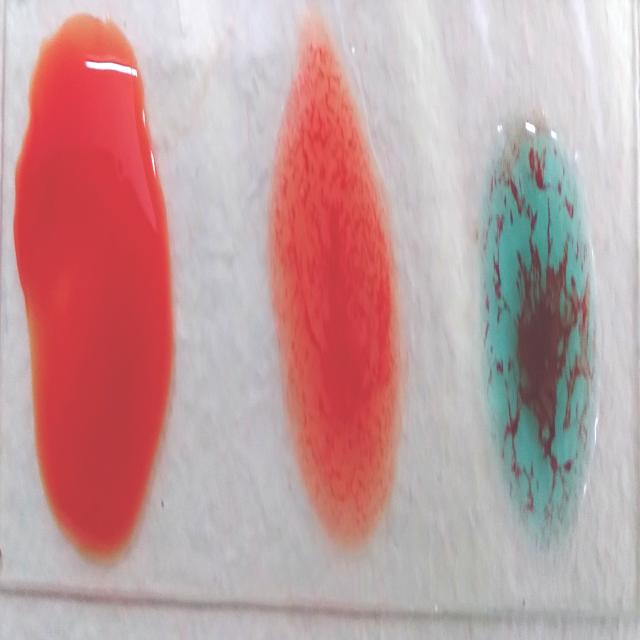A: (484, 109, 600, 551)
D: (276, 48, 398, 547)
